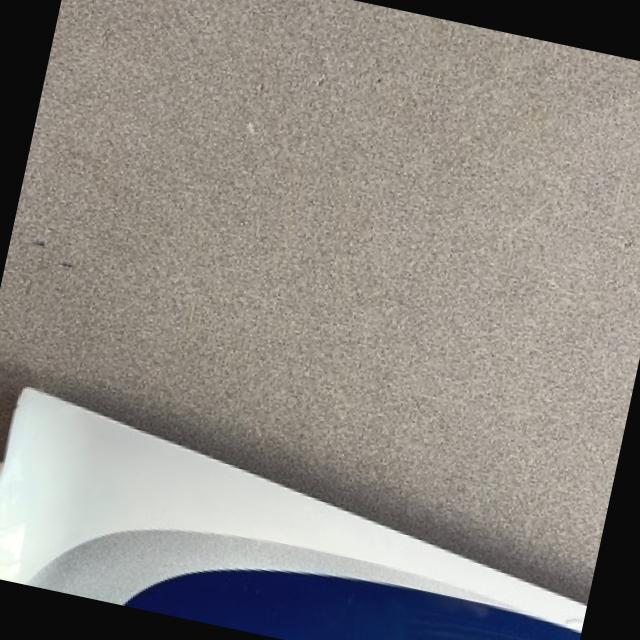healthy: (0, 386, 581, 640)
